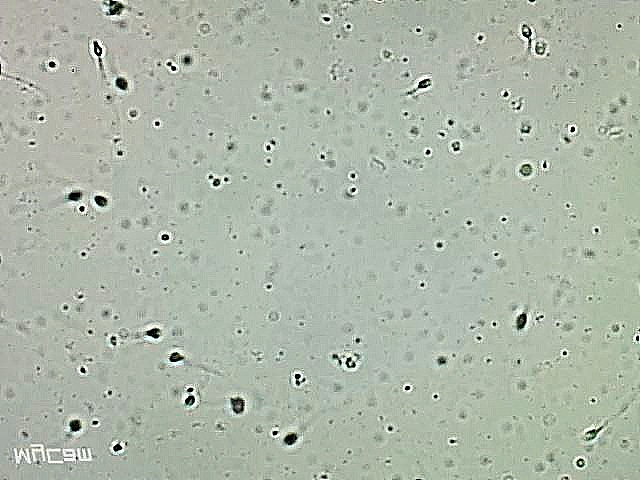sperm: (555, 361, 611, 415), (141, 340, 195, 364), (82, 11, 102, 67), (266, 400, 300, 432), (497, 1, 521, 46), (94, 38, 118, 74), (96, 319, 140, 335), (30, 180, 66, 199), (384, 69, 416, 87), (507, 286, 523, 316)
